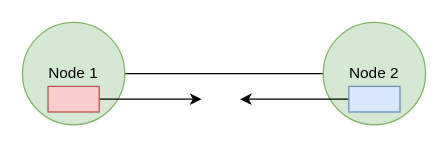
Some shapes in this 448 by 147 pixel diagram are drawn without their labels. The centre of each missing label's shape, as x and y in pixels:
AGV 1: the point at 73,98
AGV 2: the point at 374,98
